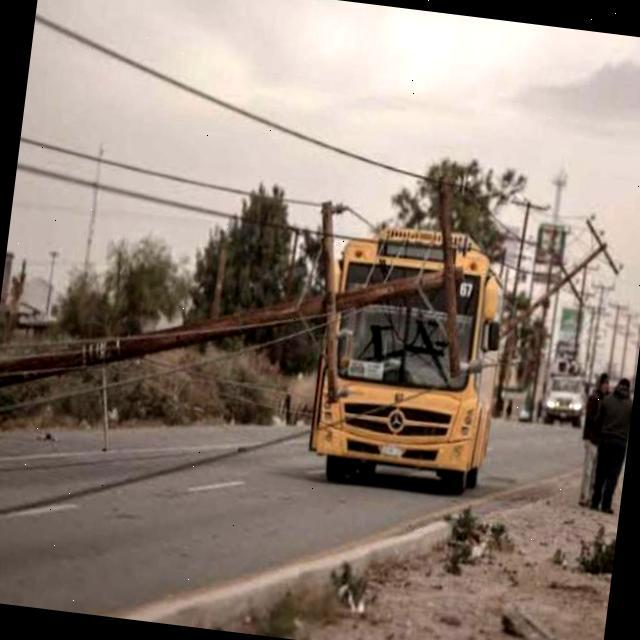Broken Pole: (0, 174, 485, 419), (503, 209, 628, 337)
